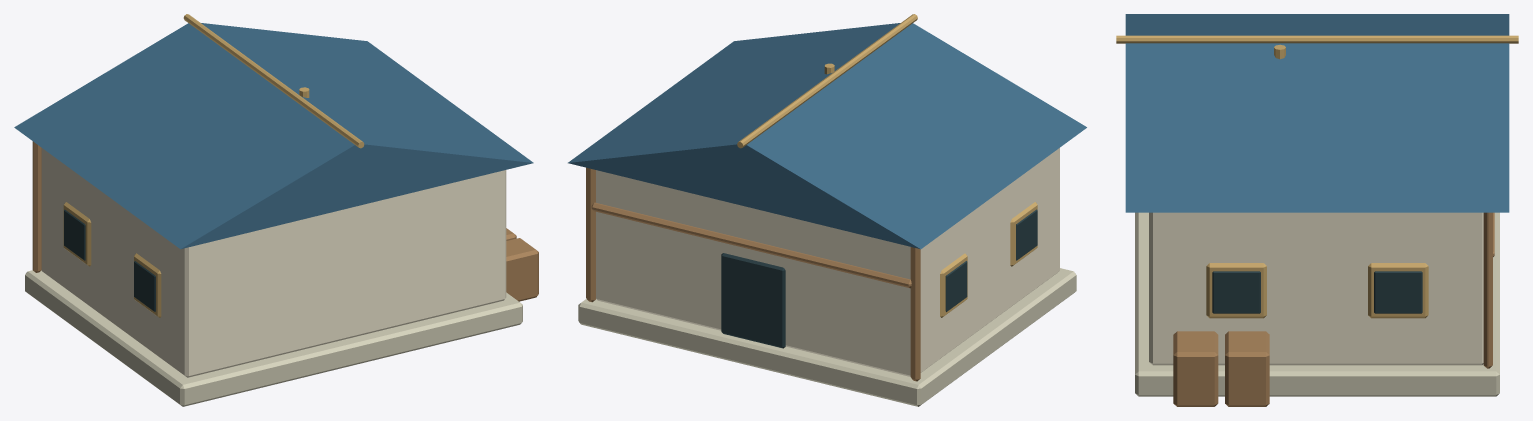
The model's file is level_06.glb.
3 renders of one model, left to right at view 1: azimuth 30°, elevation 25°; view 2: azimuth 150°, elevation 25°; view 3: azimuth 270°, elevation 25°, orthographic. The views are drawn at different scales.
Parts seen in each view (by area): view 1: warehouse — level 06; view 2: warehouse — level 06; view 3: warehouse — level 06.
Part boxes in pixels (left/top/right/bottom): warehouse — level 06: left=14, top=14, right=538, bottom=406; warehouse — level 06: left=568, top=14, right=1086, bottom=406; warehouse — level 06: left=1116, top=14, right=1518, bottom=406.
Size of the model in its own units: 5.41 by 3.14 by 4.3.
